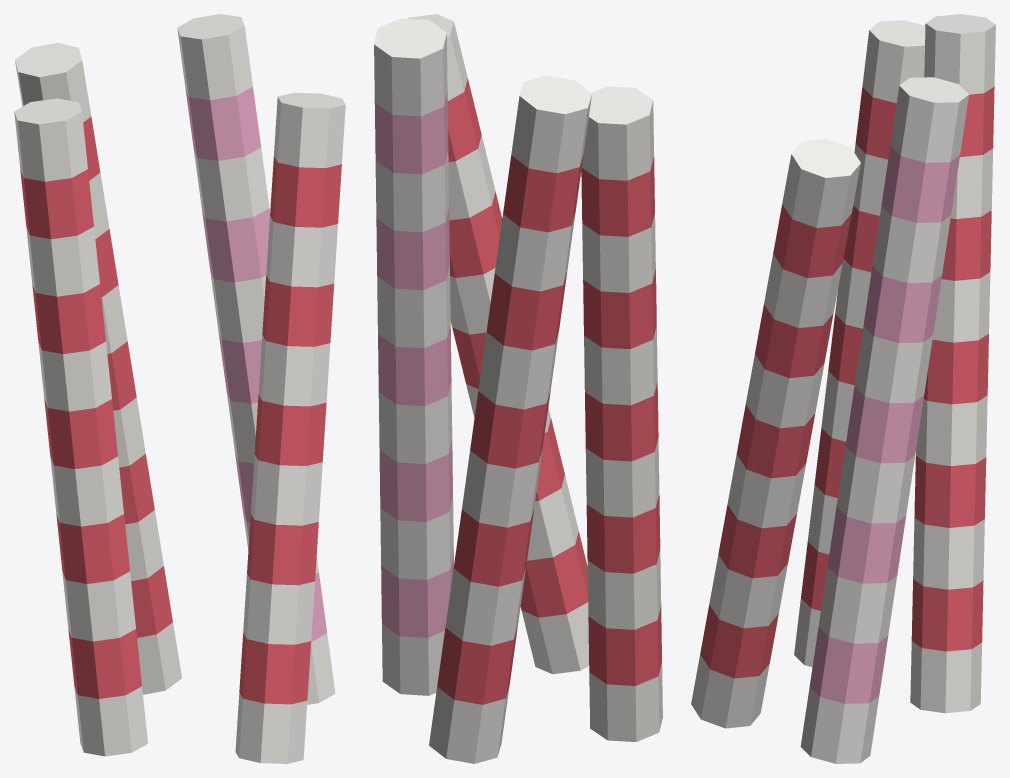
Rendered from CandyStick_Bundle.fbx.
The picture shows the model from 3 angles, left to right: view 1: azimuth 30°, elevation 25°; view 2: azimuth 150°, elevation 25°; view 3: azimuth 270°, elevation 25°; orthographic projection. The views are drawn at different scales.
Parts seen in each view (by area): view 1: CandyStick_Bundle; view 2: CandyStick_Bundle; view 3: CandyStick_Bundle.
Part boxes in pixels (box(x1,y1,x2,y2)): CandyStick_Bundle: box(14, 14, 345, 763); CandyStick_Bundle: box(374, 14, 662, 763); CandyStick_Bundle: box(691, 14, 995, 763).
Bounding box in the file's own units: 1.49 × 3.27 × 1.39.
